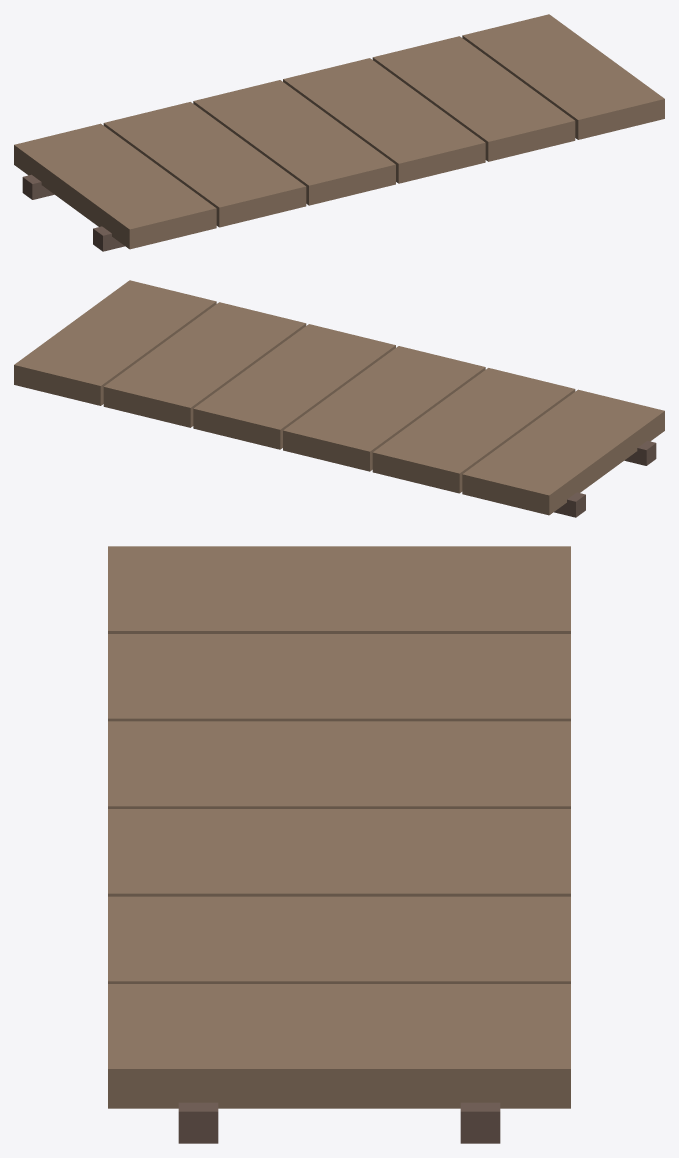
The model's file is VolcanoPlank.fbx.
3 renders of one model, top to bottom at view 1: azimuth 30°, elevation 25°; view 2: azimuth 150°, elevation 25°; view 3: azimuth 270°, elevation 25°, orthographic. The views are drawn at different scales.
Parts seen in each view (by area): view 1: Board5, Board1, Board4, Board0, Board2, Board3, UnderBrace-0.32, UnderBrace0.32; view 2: Board5, Board1, Board4, Board0, Board2, Board3, UnderBrace0.32, UnderBrace-0.32; view 3: Board0, Board1, Board2, Board3, Board4, Board5, UnderBrace-0.32, UnderBrace0.32.
Boxes of the visible parts, x1,y1,x2,y2 form: Board5: (14, 123, 216, 249); Board1: (372, 36, 575, 161); Board4: (103, 102, 306, 227); Board0: (462, 14, 664, 139); Board2: (283, 58, 485, 183); Board3: (193, 80, 395, 205); UnderBrace-0.32: (22, 174, 54, 199); UnderBrace0.32: (93, 226, 124, 251); Board5: (462, 389, 664, 515); Board1: (103, 302, 306, 427); Board4: (372, 368, 575, 493); Board0: (14, 280, 216, 405); Board2: (193, 324, 395, 449); Board3: (283, 346, 485, 471); UnderBrace0.32: (624, 440, 656, 465); UnderBrace-0.32: (554, 492, 585, 517); Board0: (108, 984, 570, 1108); Board1: (108, 896, 570, 983); Board2: (108, 809, 570, 896); Board3: (108, 721, 570, 808); Board4: (108, 634, 570, 721); Board5: (108, 546, 570, 633); UnderBrace-0.32: (460, 1102, 500, 1143); UnderBrace0.32: (178, 1102, 218, 1143).
Size of the model in its own units: 2.9 by 0.165 by 1.05.
